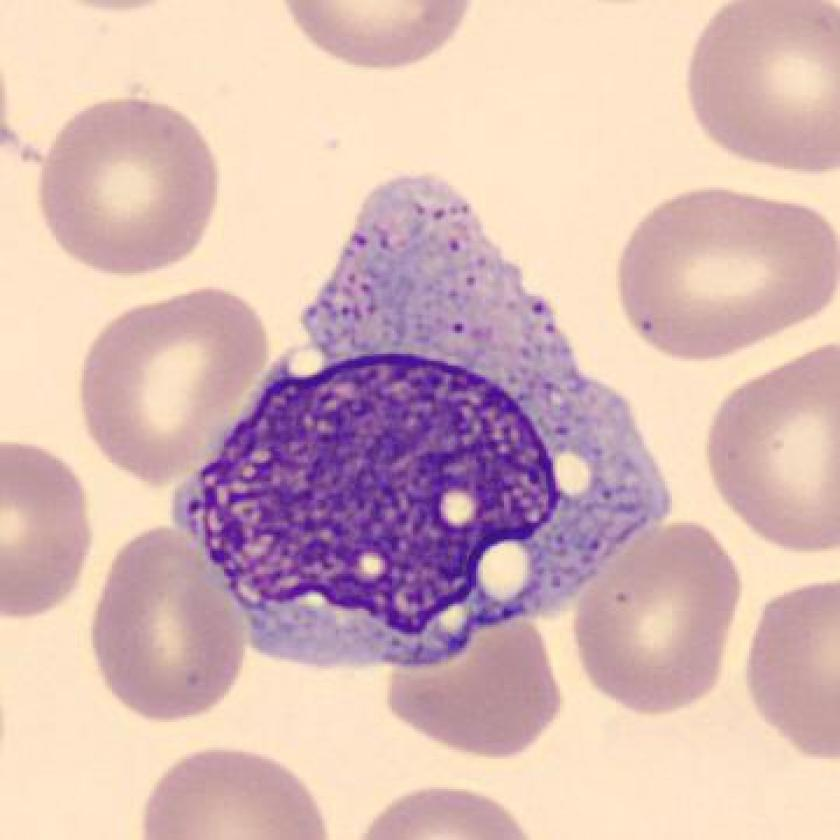monocyte: (157, 159, 694, 696)
